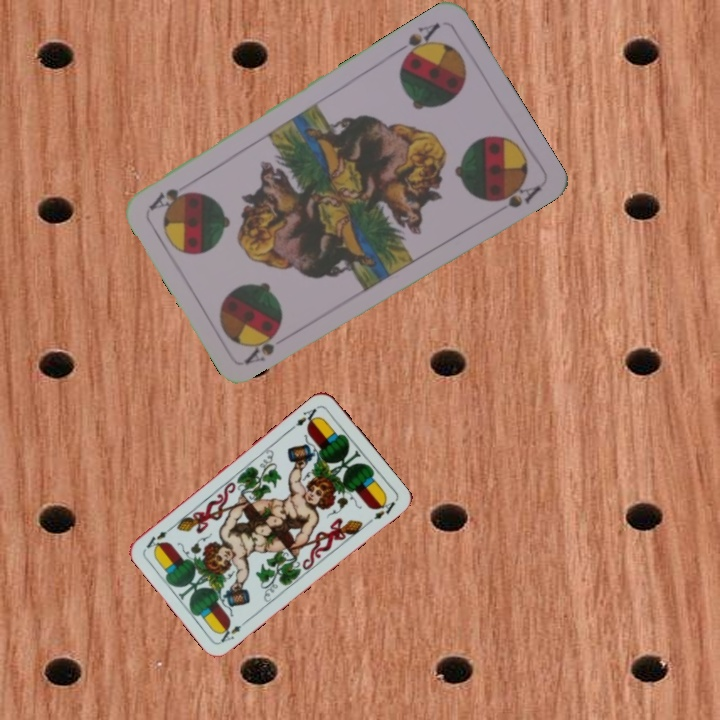EA: (287, 402, 322, 432), (215, 616, 251, 645)
SA: (392, 18, 443, 65), (241, 329, 281, 367)
